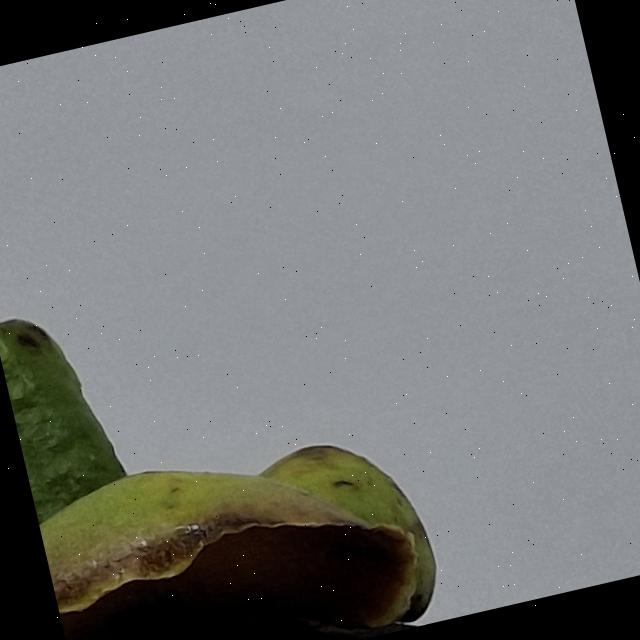mangosteen: (0, 126, 640, 640)
